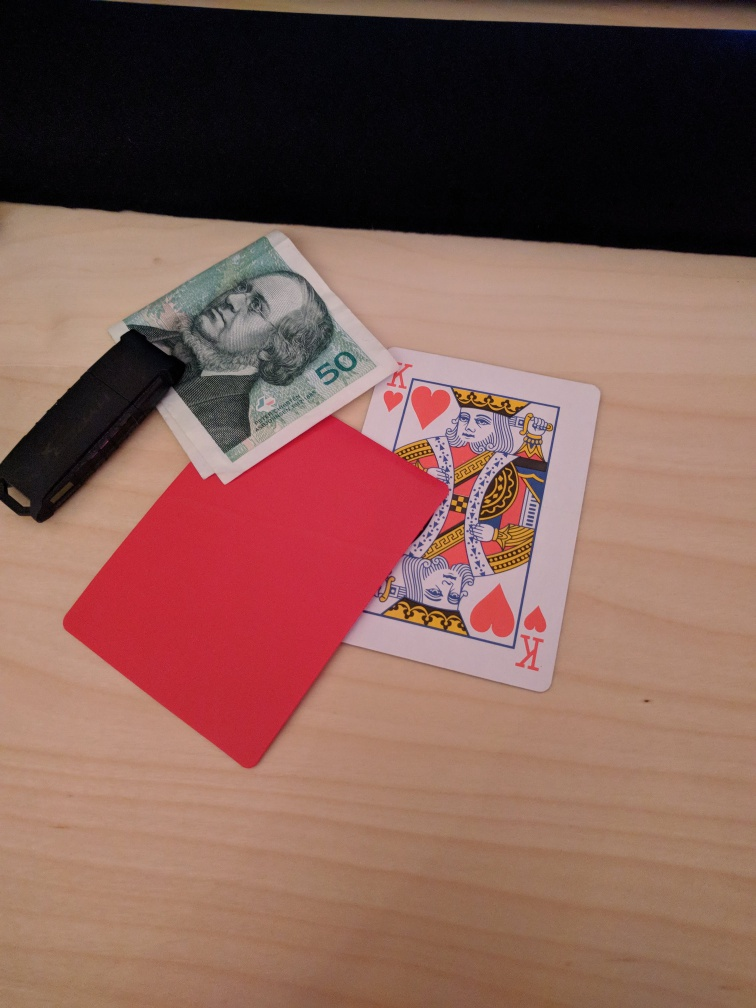king: (342, 346, 602, 693)
